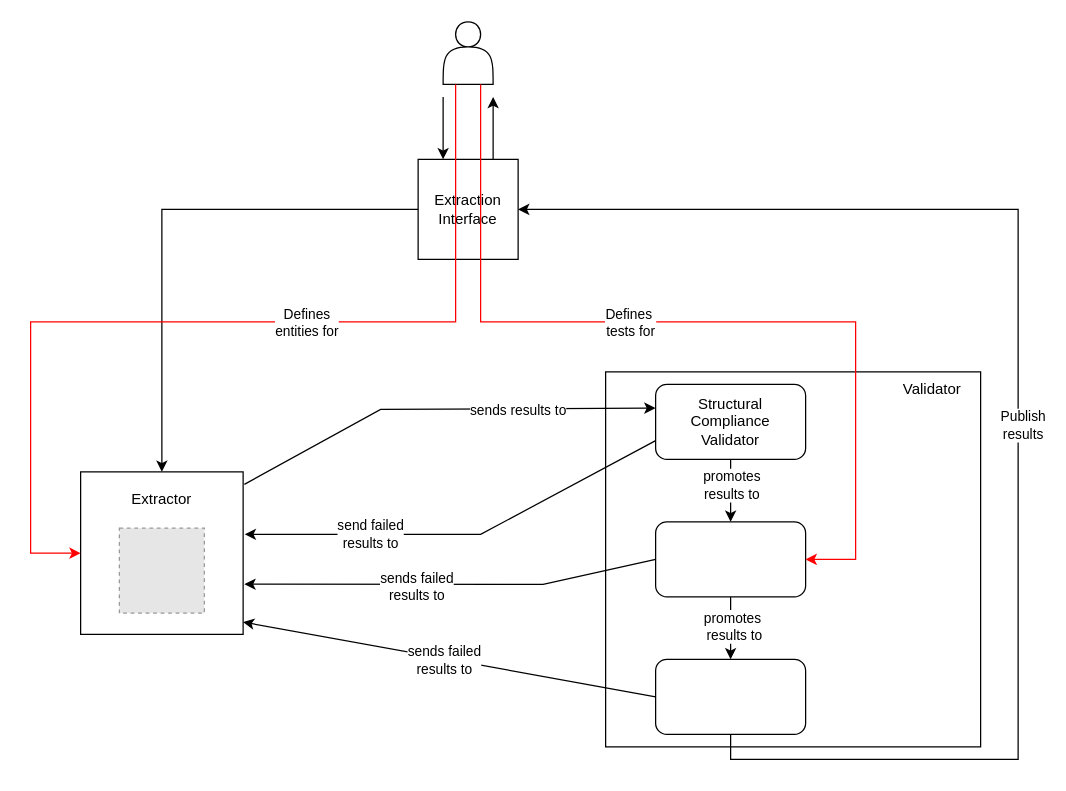
This 1066x791 diagram has some shape labels left out. Grey dashed boxes stand in for pictures. Each missing label, with the centre of its shape:
Entity Completeness Validator: the point at 730,696
Entity Quality Validator: the point at 730,559
